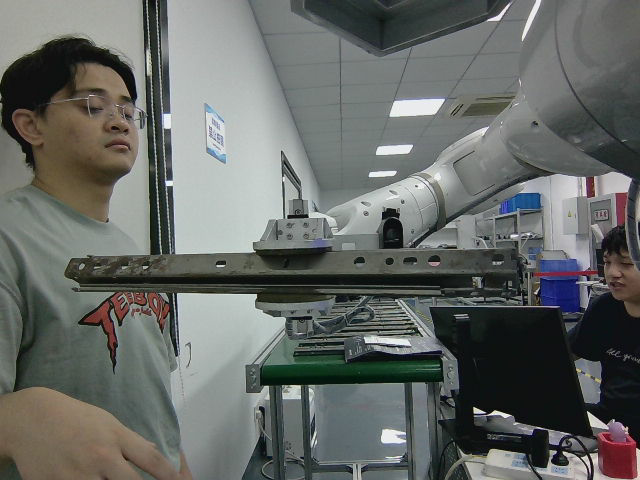right: (63, 249, 524, 296)
